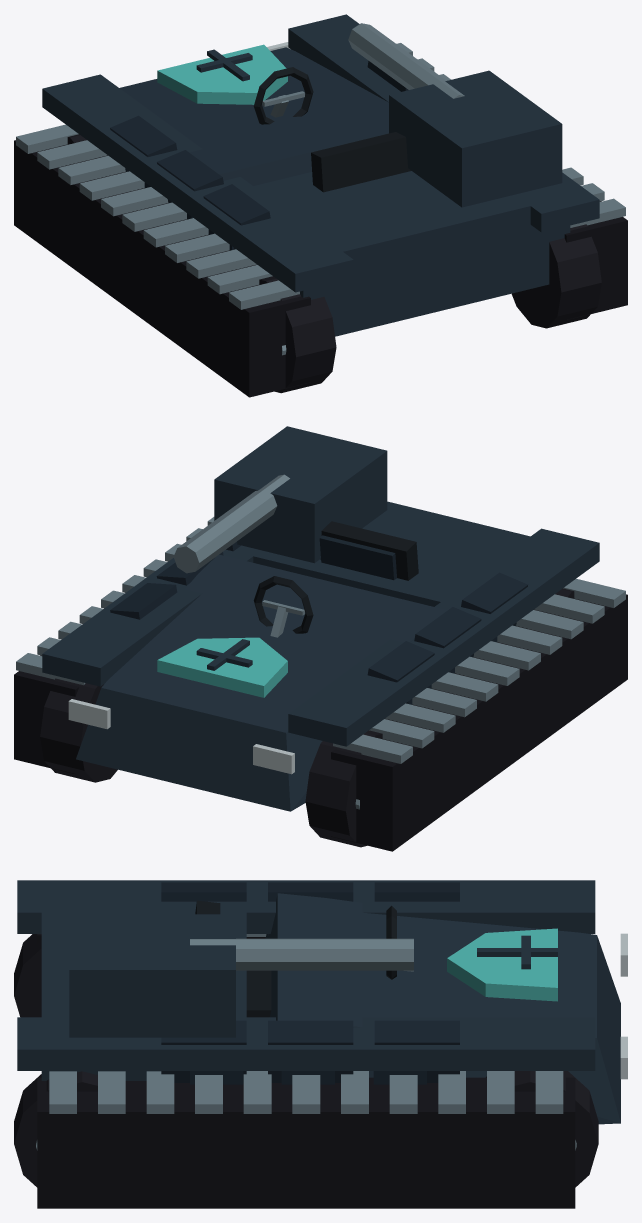
File: kart.glb
3 views of the same model, one above another, from view 1: azimuth 30°, elevation 25°; view 2: azimuth 150°, elevation 25°; view 3: azimuth 270°, elevation 25° (orthographic). The views are drawn at different scales.
Parts seen in each view (by area): view 1: identity-tank-tank-armored-hull, identity-tank-tank-full-length-tracks, identity-tank-driver-cockpit, wheel-rear-right, identity-tank-motif-shield, identity-tank-motif-armor, wheel-rear-left; view 2: identity-tank-tank-armored-hull, identity-tank-tank-full-length-tracks, identity-tank-motif-armor, identity-tank-driver-cockpit, identity-tank-motif-shield, wheel-front-left, wheel-front-right; view 3: identity-tank-tank-armored-hull, identity-tank-tank-full-length-tracks, identity-tank-motif-armor, identity-tank-motif-shield, wheel-front-right, wheel-rear-right, identity-tank-driver-cockpit, wheel-rear-left.
Boxes of the visible parts, <box> form: identity-tank-tank-armored-hull: <box>42,14,599,336</box>; identity-tank-tank-full-length-tracks: <box>14,43,627,397</box>; identity-tank-driver-cockpit: <box>253,67,411,192</box>; wheel-rear-right: <box>511,224,601,328</box>; identity-tank-motif-shield: <box>157,44,287,104</box>; identity-tank-motif-armor: <box>110,61,408,249</box>; wheel-rear-left: <box>259,276,336,393</box>; identity-tank-tank-armored-hull: <box>42,426,599,811</box>; identity-tank-tank-full-length-tracks: <box>14,517,627,851</box>; identity-tank-motif-armor: <box>110,541,527,703</box>; identity-tank-driver-cockpit: <box>253,521,418,637</box>; identity-tank-motif-shield: <box>157,637,287,697</box>; wheel-front-left: <box>305,730,382,847</box>; wheel-front-right: <box>40,678,117,782</box>; identity-tank-tank-armored-hull: <box>17,880,627,1124</box>; identity-tank-tank-full-length-tracks: <box>37,934,575,1208</box>; identity-tank-motif-armor: <box>161,882,459,1082</box>; identity-tank-motif-shield: <box>447,928,557,1001</box>; wheel-front-right: <box>486,1071,598,1187</box>; wheel-rear-right: <box>14,1071,97,1187</box>; identity-tank-driver-cockpit: <box>195,900,413,1017</box>; wheel-rear-left: <box>14,934,41,1017</box>.
Size of the model in its own units: 2.38 by 1.19 by 2.88.
